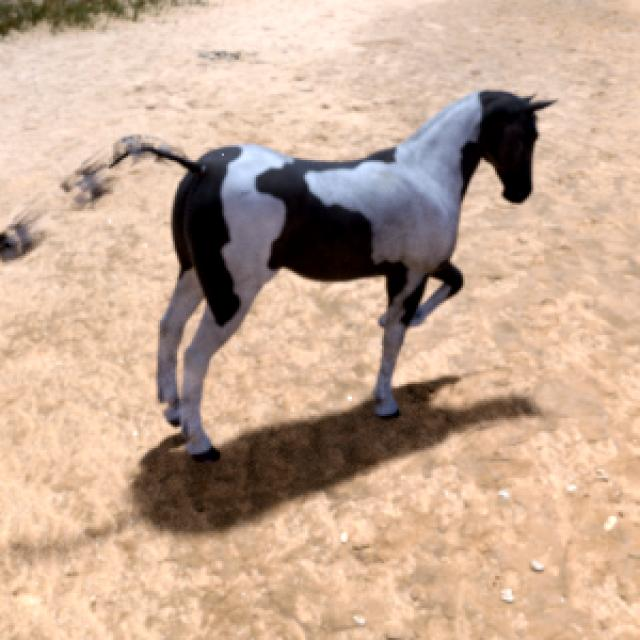horse: (62, 92, 553, 462), (0, 211, 42, 257)
